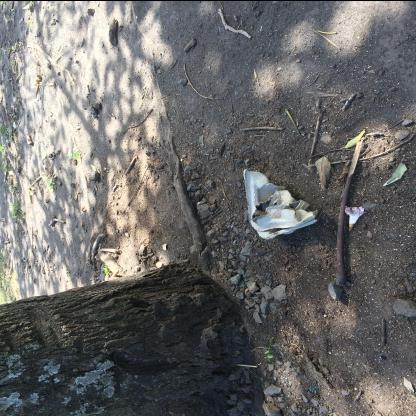karton: (242, 168, 318, 239)
